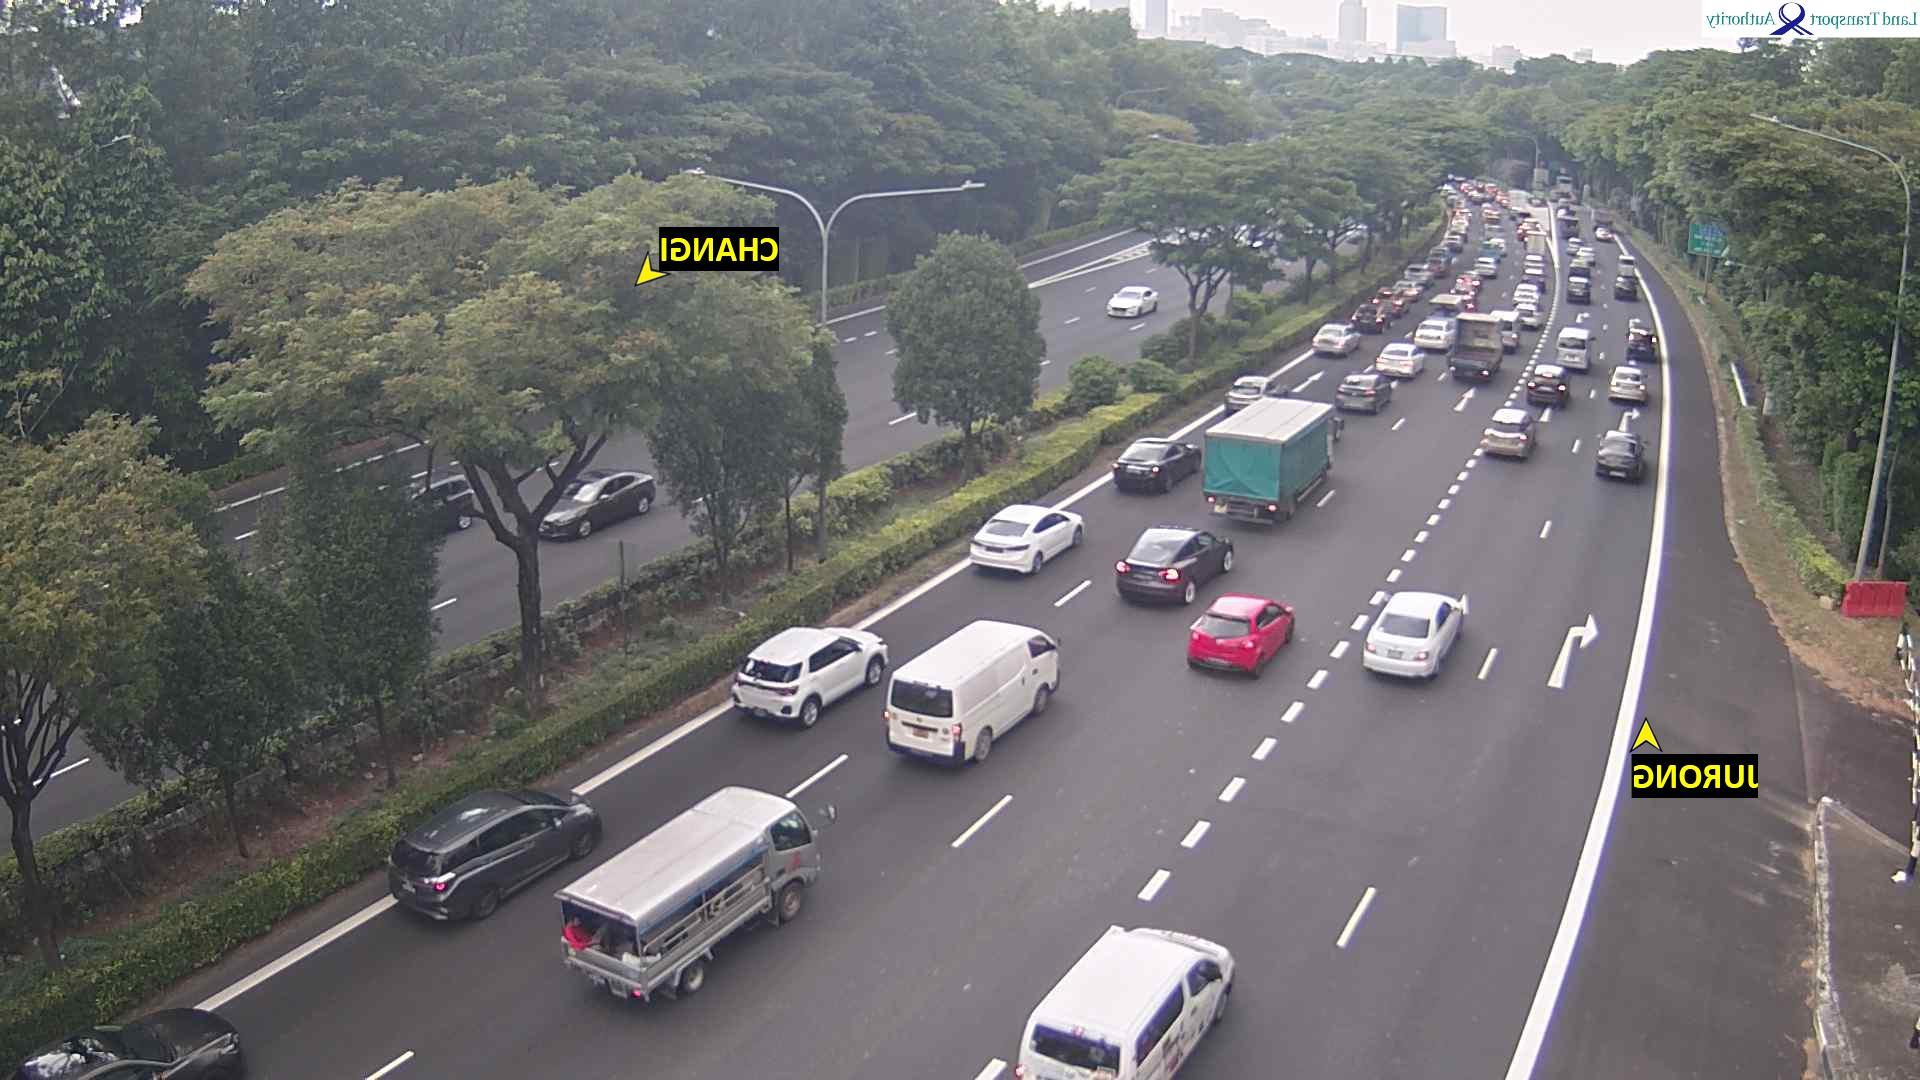incoming: (530, 479, 612, 543), (1104, 287, 1150, 322)
